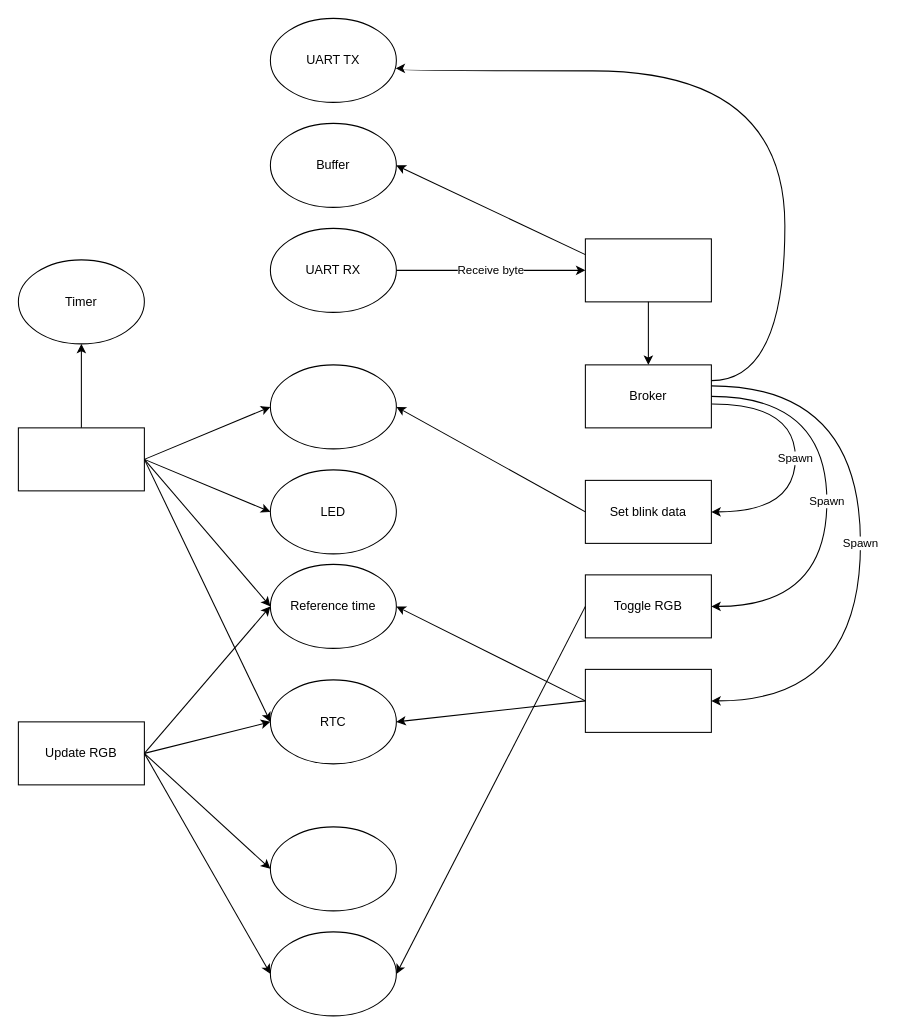
Image size: 897x1034. Some labels were removed from this diagram. The centre of each missing label's shape, as x and y in pixels:
Aggregate: point (647, 270)
Blink: point (80, 459)
Blink data: point (332, 406)
RGB: point (332, 868)
RGB state: point (332, 973)
Set date time: point (647, 700)
